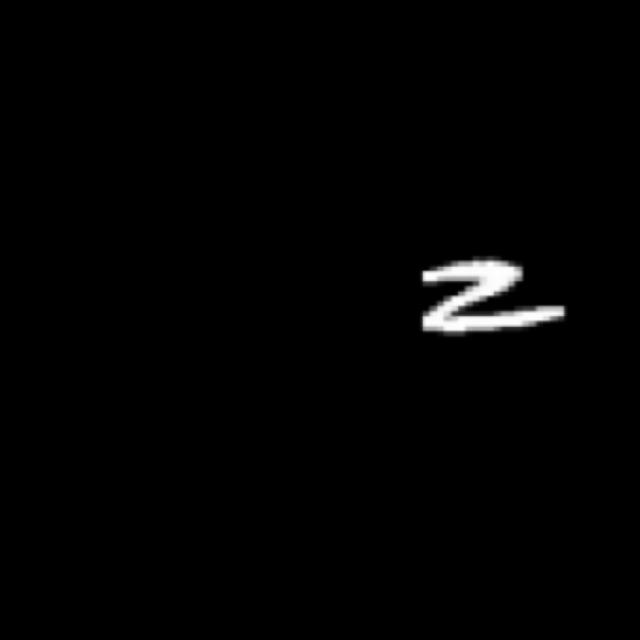two -2-: (398, 254, 571, 346)
